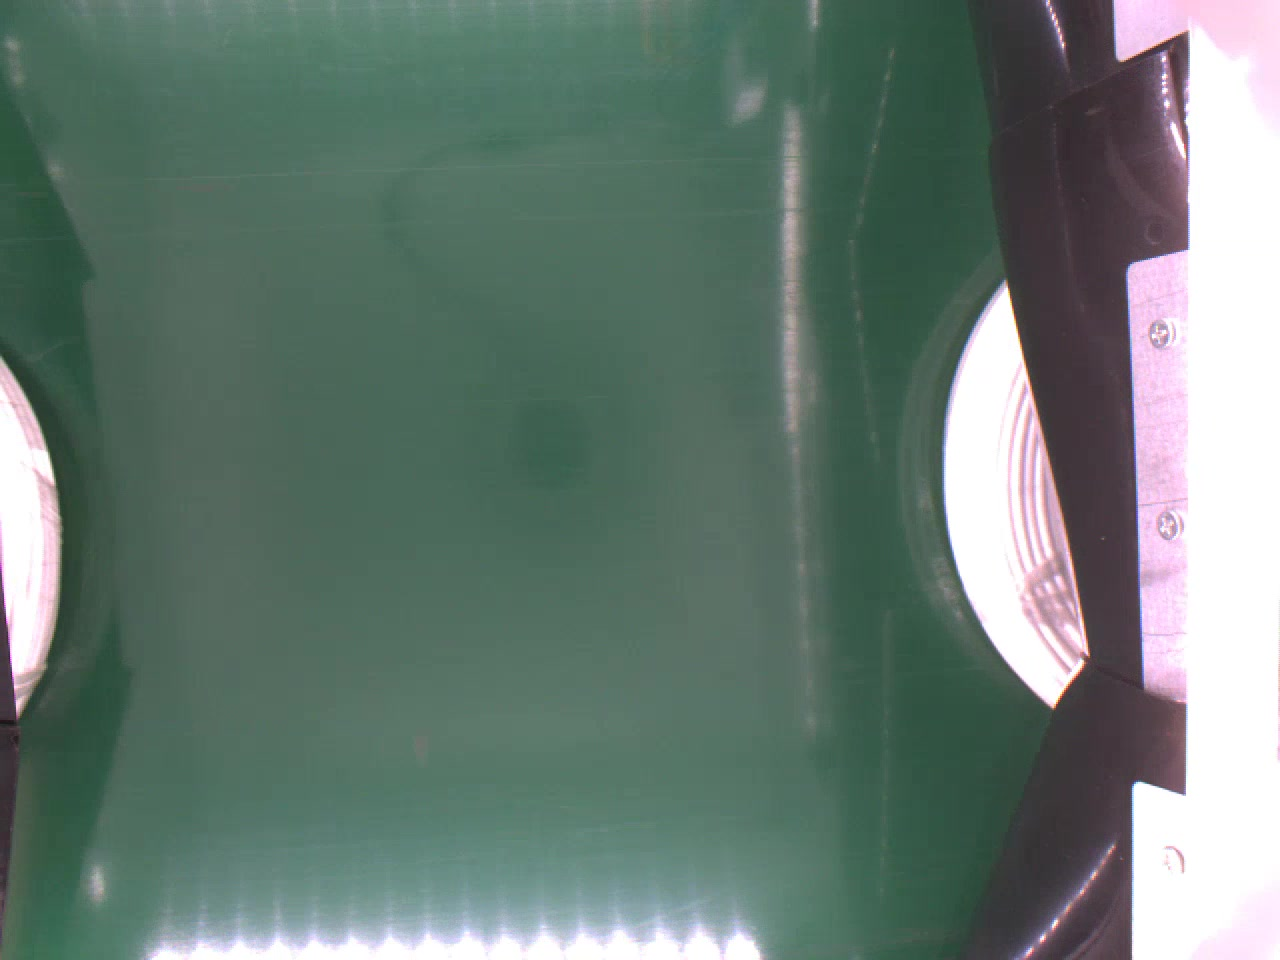white: (940, 281, 1078, 705)
